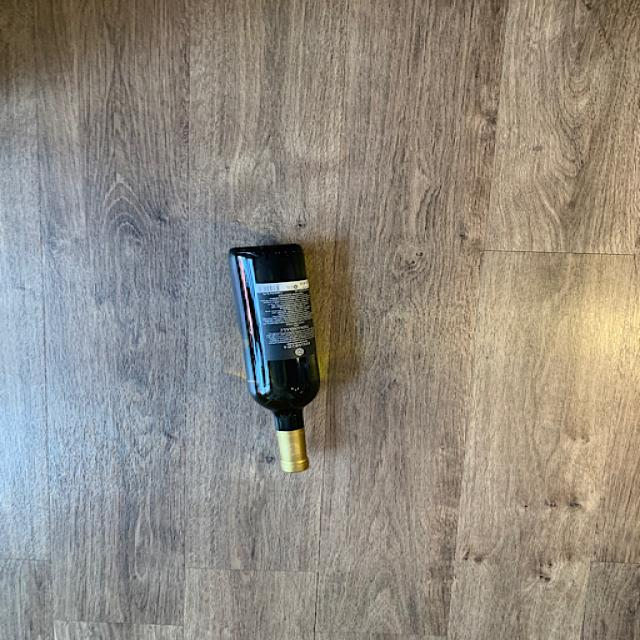litter: (221, 239, 330, 473)
